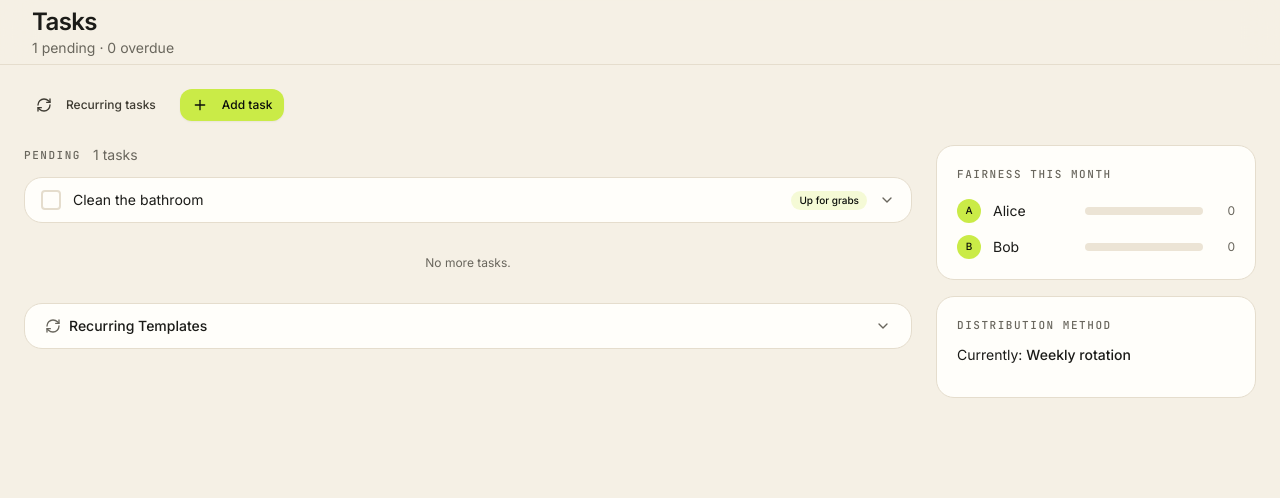
Scenario: <TasksPage /> flows › J.6 — Delete button hidden for non-creator non-admin viewers
Click the text "Clean the bathroom". click: (138, 200)
box: [73,191,204,208]
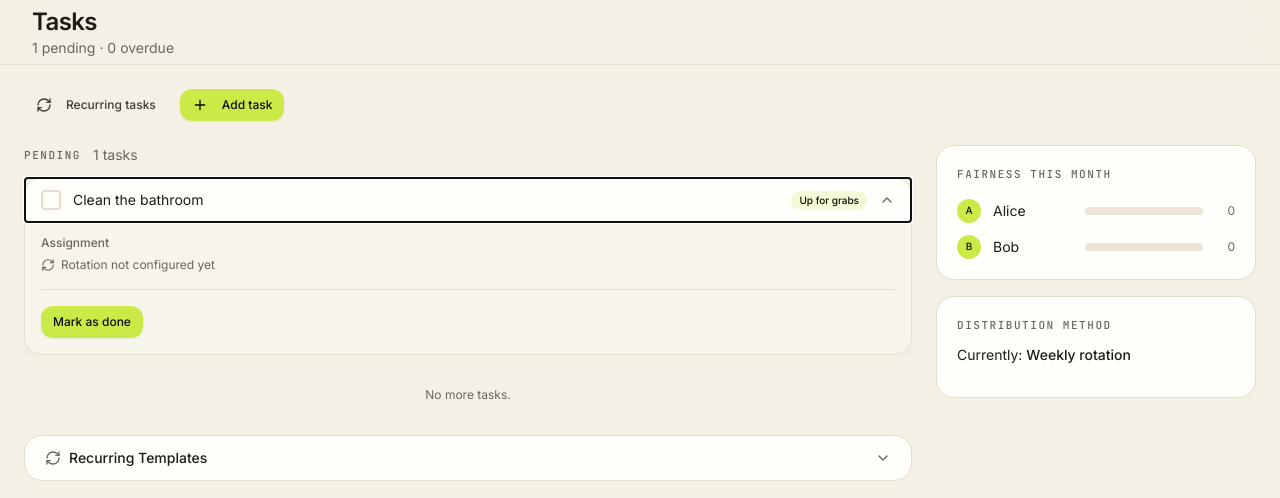
Expected: the button "Mark as done" is shown, [41,306,143,338]
